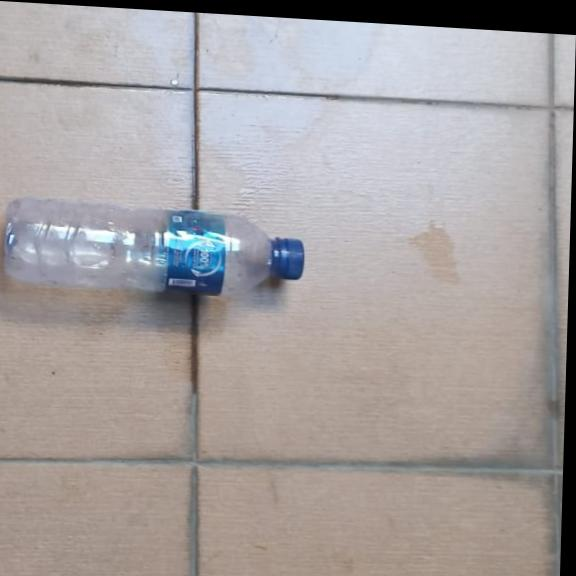Plastik: (3, 195, 305, 301)
